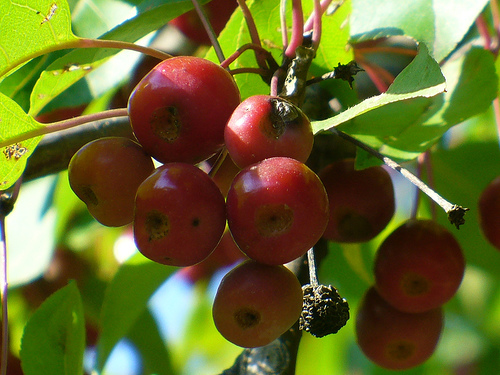apple: (220, 155, 334, 267), (126, 51, 237, 165), (131, 163, 226, 271), (209, 260, 312, 350)
